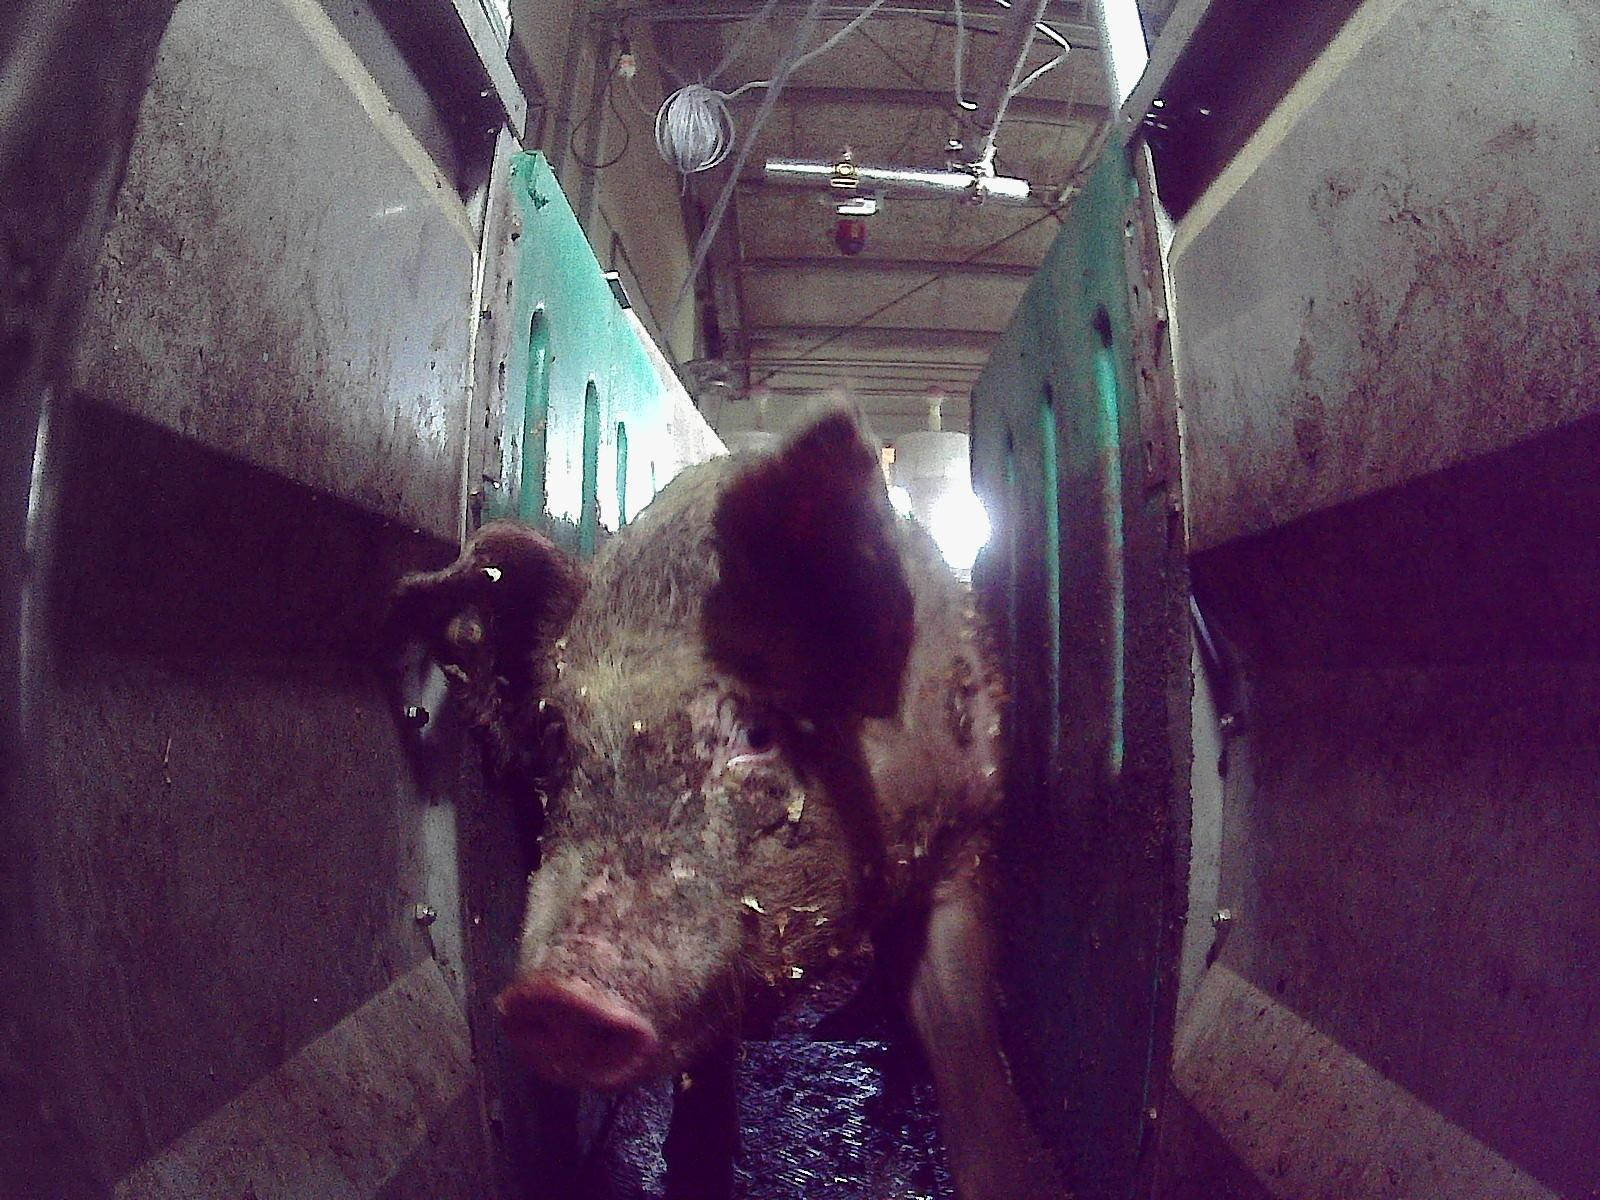Face: (494, 509, 891, 1090)
